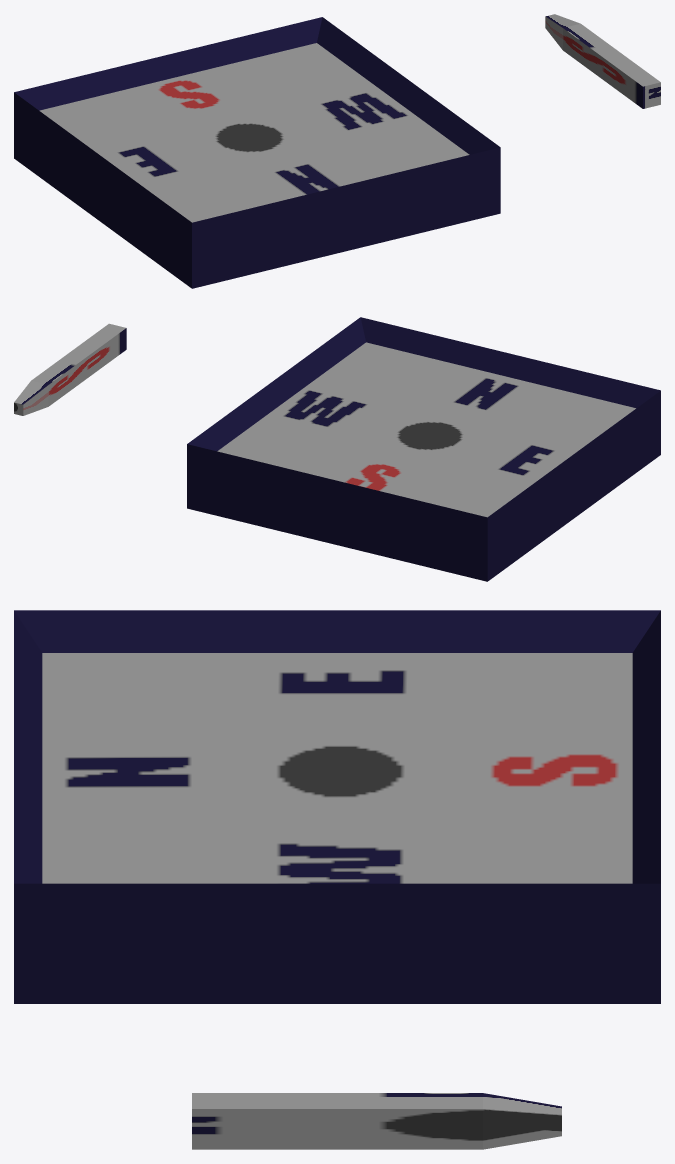
Rendered from compass.fbx.
The picture shows the model from 3 angles, top to bottom: view 1: azimuth 30°, elevation 25°; view 2: azimuth 150°, elevation 25°; view 3: azimuth 270°, elevation 25°; orthographic projection. The views are drawn at different scales.
Visible parts, largest first — view 1: Compass, Needle; view 2: Compass, Needle; view 3: Compass, Needle.
Boxes of the visible parts, bbox=[...] form: Compass: bbox=[14, 17, 500, 288]; Needle: bbox=[545, 14, 660, 108]; Compass: bbox=[187, 317, 660, 581]; Needle: bbox=[14, 323, 126, 415]; Compass: bbox=[14, 610, 660, 1003]; Needle: bbox=[192, 1093, 561, 1149].
Bounding box in the file's own units: 334 × 40.76 × 199.
Materials: 2 (2 with a texture image).
